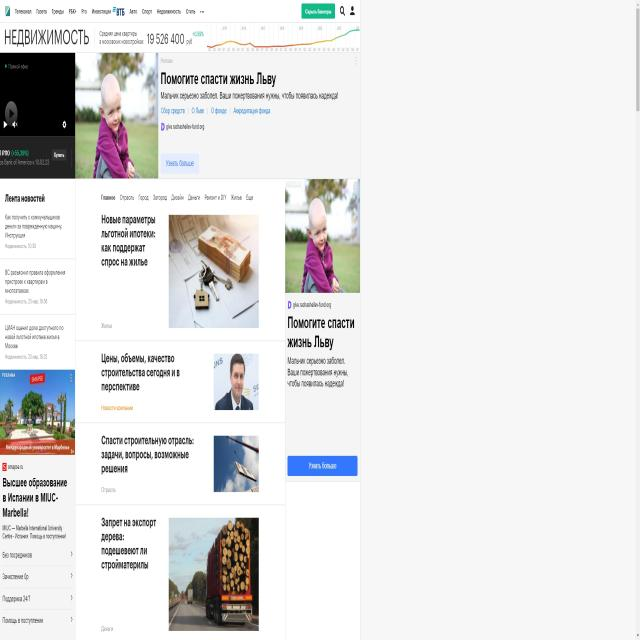tab-bar: (95, 185, 259, 209), (13, 2, 207, 19)
